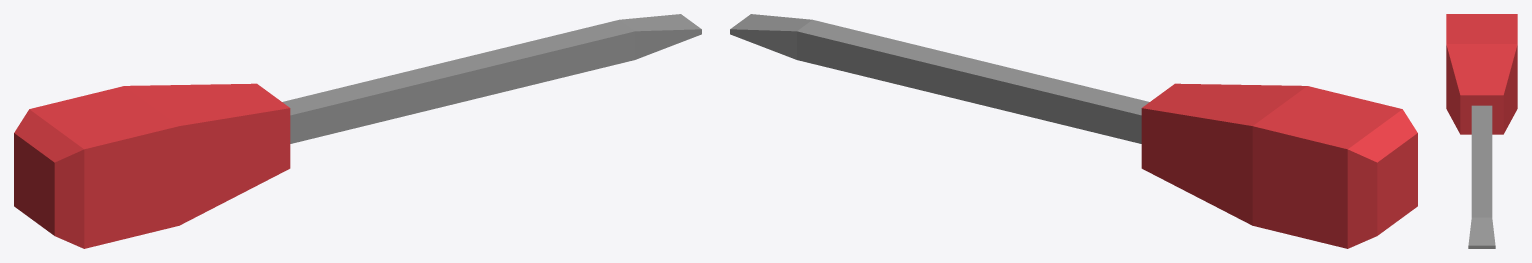
File: screwdriver.fbx
The picture shows the model from 3 angles, left to right: view 1: azimuth 30°, elevation 25°; view 2: azimuth 150°, elevation 25°; view 3: azimuth 270°, elevation 25°; orthographic projection. The views are drawn at different scales.
Visible parts, largest first — view 1: screwdriver; view 2: screwdriver; view 3: screwdriver.
Boxes of the visible parts, <box> form: screwdriver: <box>14,14,701,248</box>; screwdriver: <box>730,14,1417,248</box>; screwdriver: <box>1446,14,1517,248</box>.
Size of the model in its own units: 37.65 by 5.45 by 5.45.
